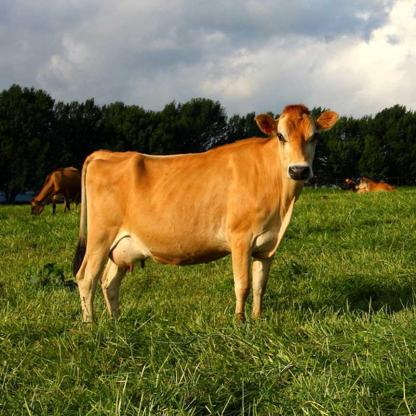cow: (78, 107, 338, 325), (30, 166, 81, 216), (356, 178, 398, 192)
